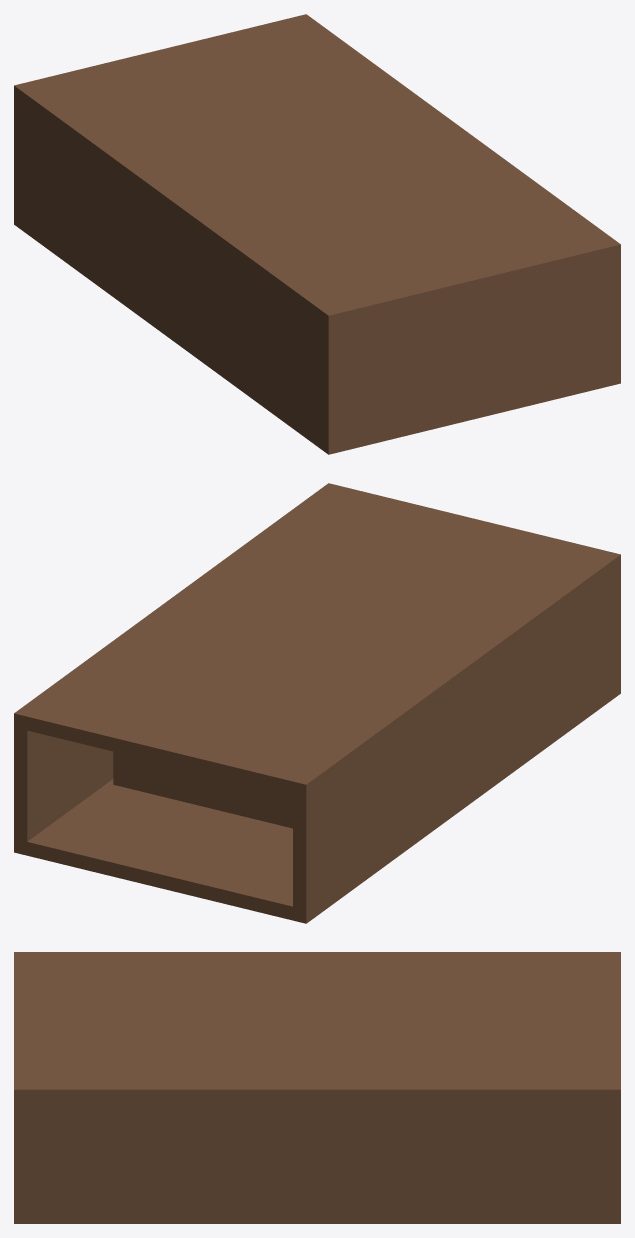
Rendered from gun_rack.glb.
3 views of the same model, one above another, from view 1: azimuth 30°, elevation 25°; view 2: azimuth 150°, elevation 25°; view 3: azimuth 270°, elevation 25° (orthographic). The views are drawn at different scales.
Visible parts, largest first — view 1: GunRack_Frame; view 2: GunRack_Frame; view 3: GunRack_Frame.
Part boxes in pixels (box(x1,y1,x2,y2)): GunRack_Frame: box(14, 14, 620, 454); GunRack_Frame: box(14, 483, 620, 923); GunRack_Frame: box(14, 952, 620, 1223).
Size of the model in its own units: 1.1 by 0.5 by 2.05.
